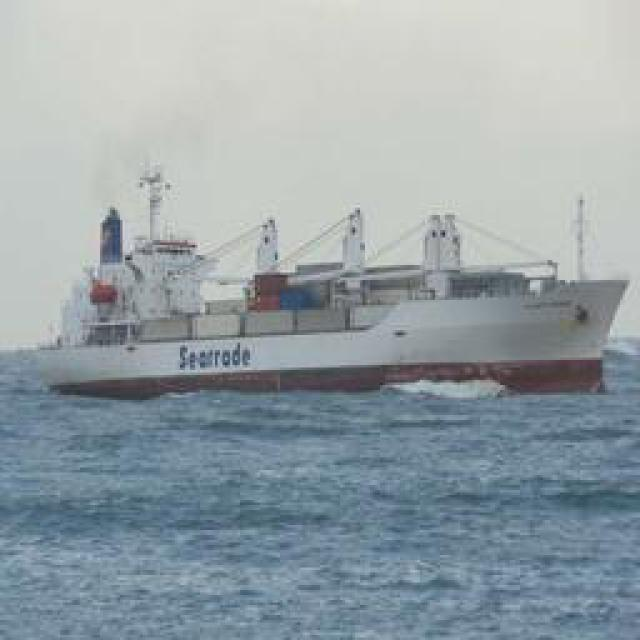Ship: (29, 190, 619, 405)
